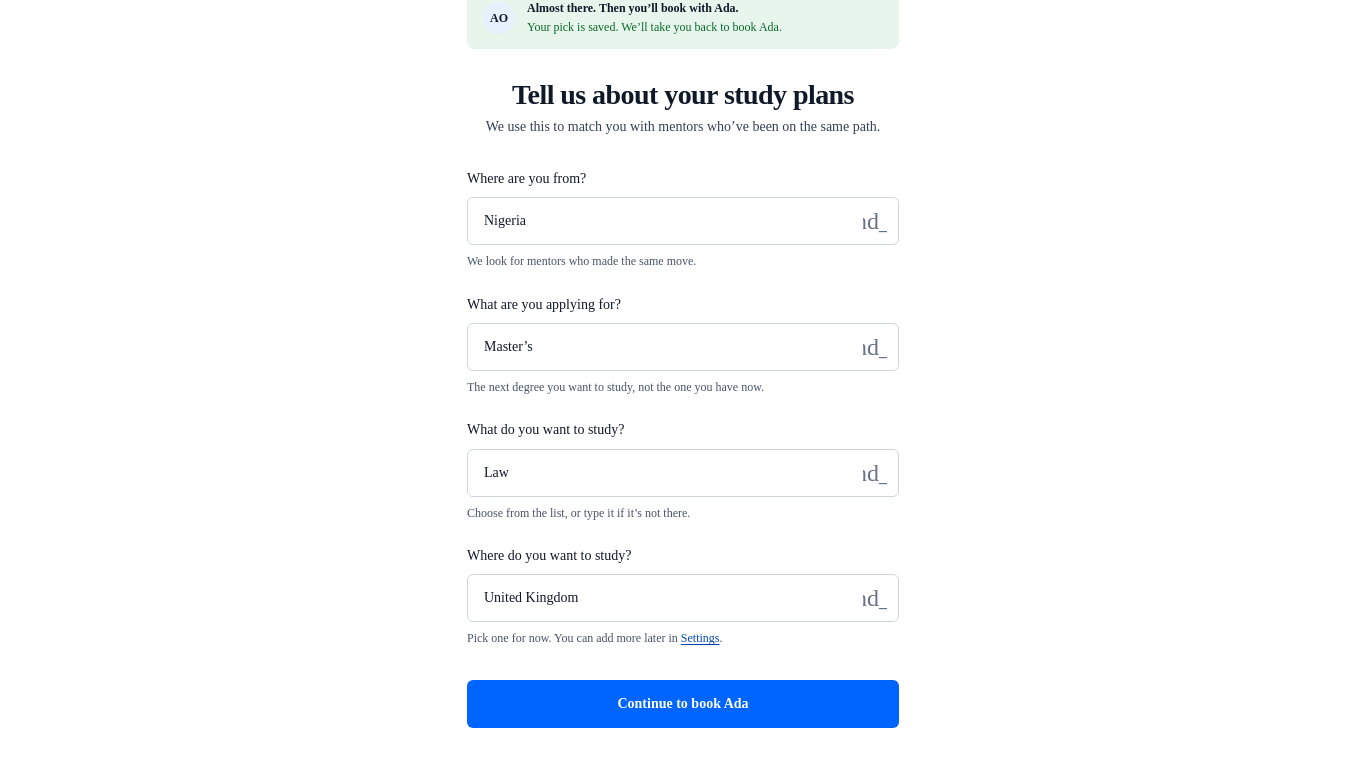
Test: OnboardingScreen › a guest back from Book › shows the notice and the other mentors when theirs is not taking bookings
This screenshot has width=1366, height=768.
(page scrolled)
Click the button "Continue to book Ada".
click(683, 704)  # box x1=467 y1=680 x2=899 y2=728
(page scrolled)
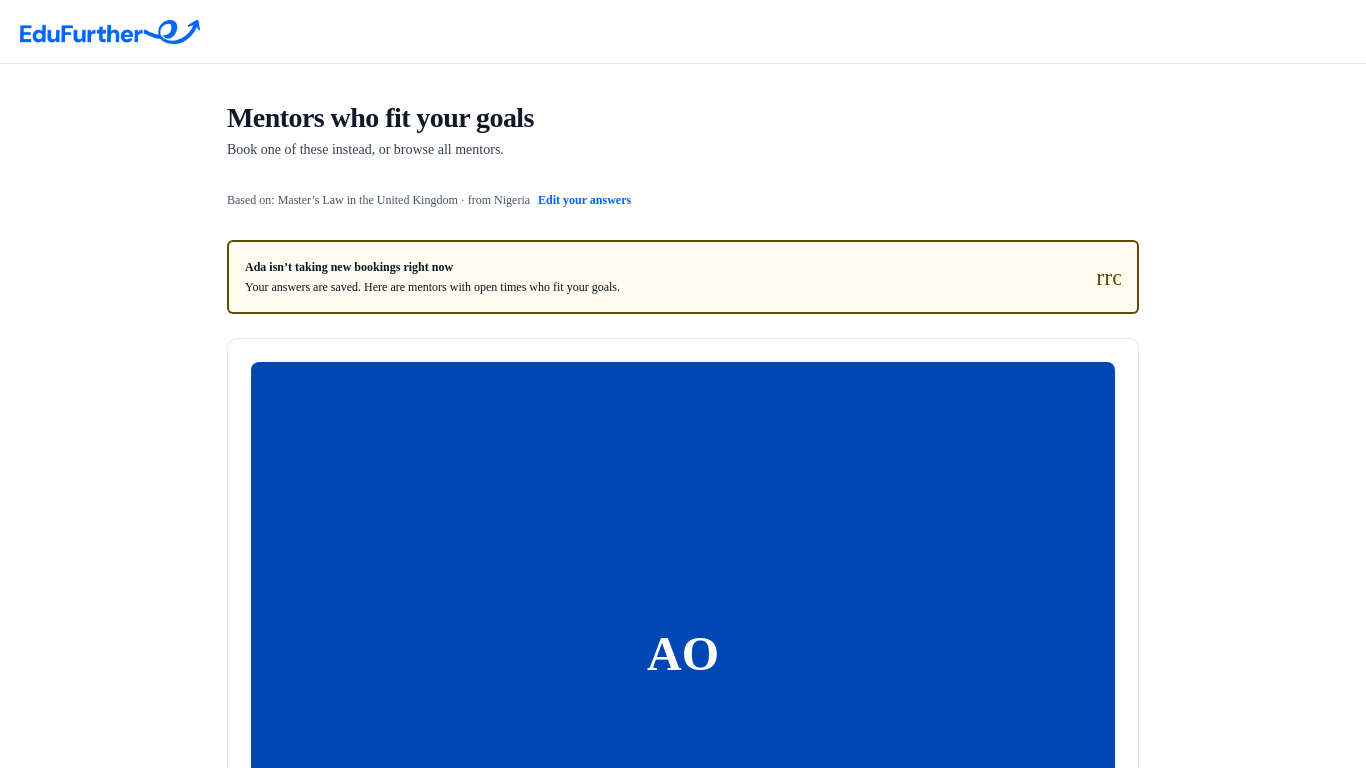
Result: the text "Ada isn’t taking new bookings right now" is shown at x1=245 y1=260 x2=453 y2=274
Result: the heading reads "Mentors who fit your goals" at x1=227 y1=102 x2=534 y2=133
